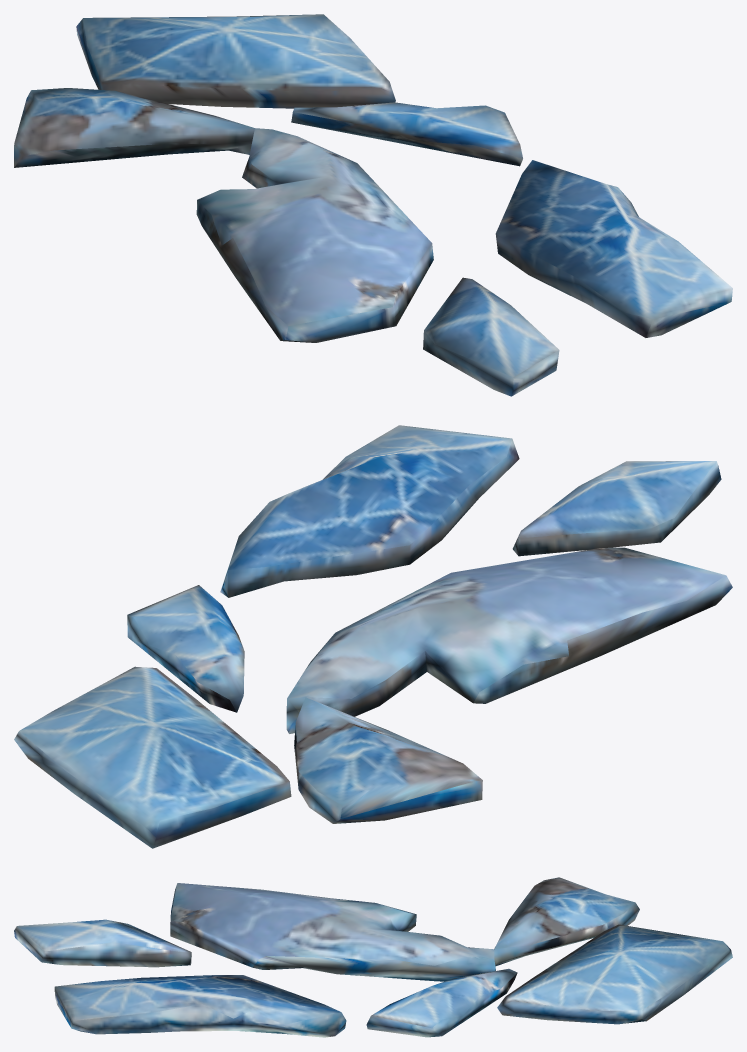
The model's file is SecondRoom_IceRubble.fbx.
The picture shows the model from 3 angles, top to bottom: view 1: azimuth 30°, elevation 25°; view 2: azimuth 150°, elevation 25°; view 3: azimuth 270°, elevation 25°; orthographic projection. The views are drawn at different scales.
Visible parts, largest first — view 1: SecondRoom_IceRubble_Mesh; view 2: SecondRoom_IceRubble_Mesh; view 3: SecondRoom_IceRubble_Mesh.
Part boxes in pixels (x1=…): SecondRoom_IceRubble_Mesh: x1=14, y1=14, x2=732, y2=396; SecondRoom_IceRubble_Mesh: x1=14, y1=425, x2=732, y2=848; SecondRoom_IceRubble_Mesh: x1=14, y1=877, x2=732, y2=1037.
Bounding box in the file's own units: 2.95 × 0.4466 × 6.
1 material, 1 textured.
